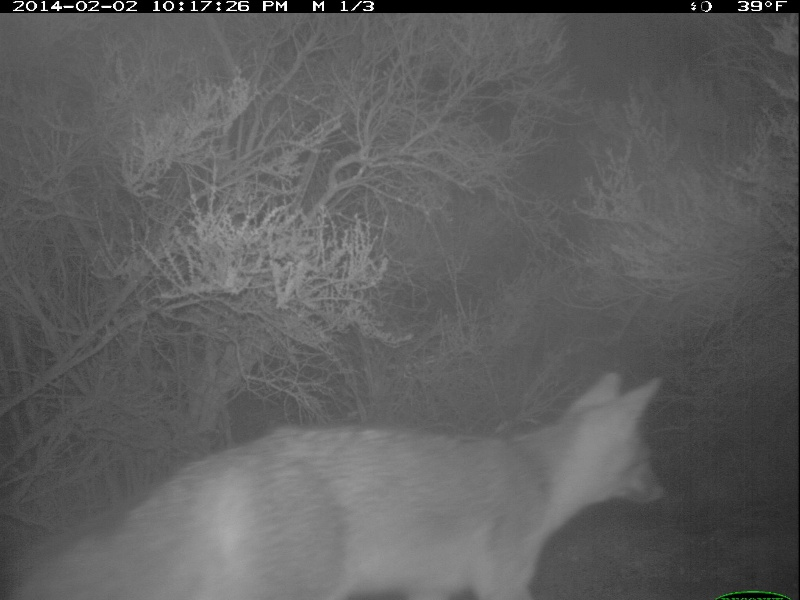coyote: (1, 372, 668, 597)
